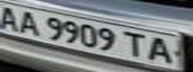0: (78, 21, 100, 50)
9: (39, 13, 66, 42), (57, 17, 81, 45), (97, 25, 118, 53)
A: (145, 34, 181, 65), (15, 8, 45, 37), (0, 3, 24, 33)
T: (121, 29, 151, 60)
